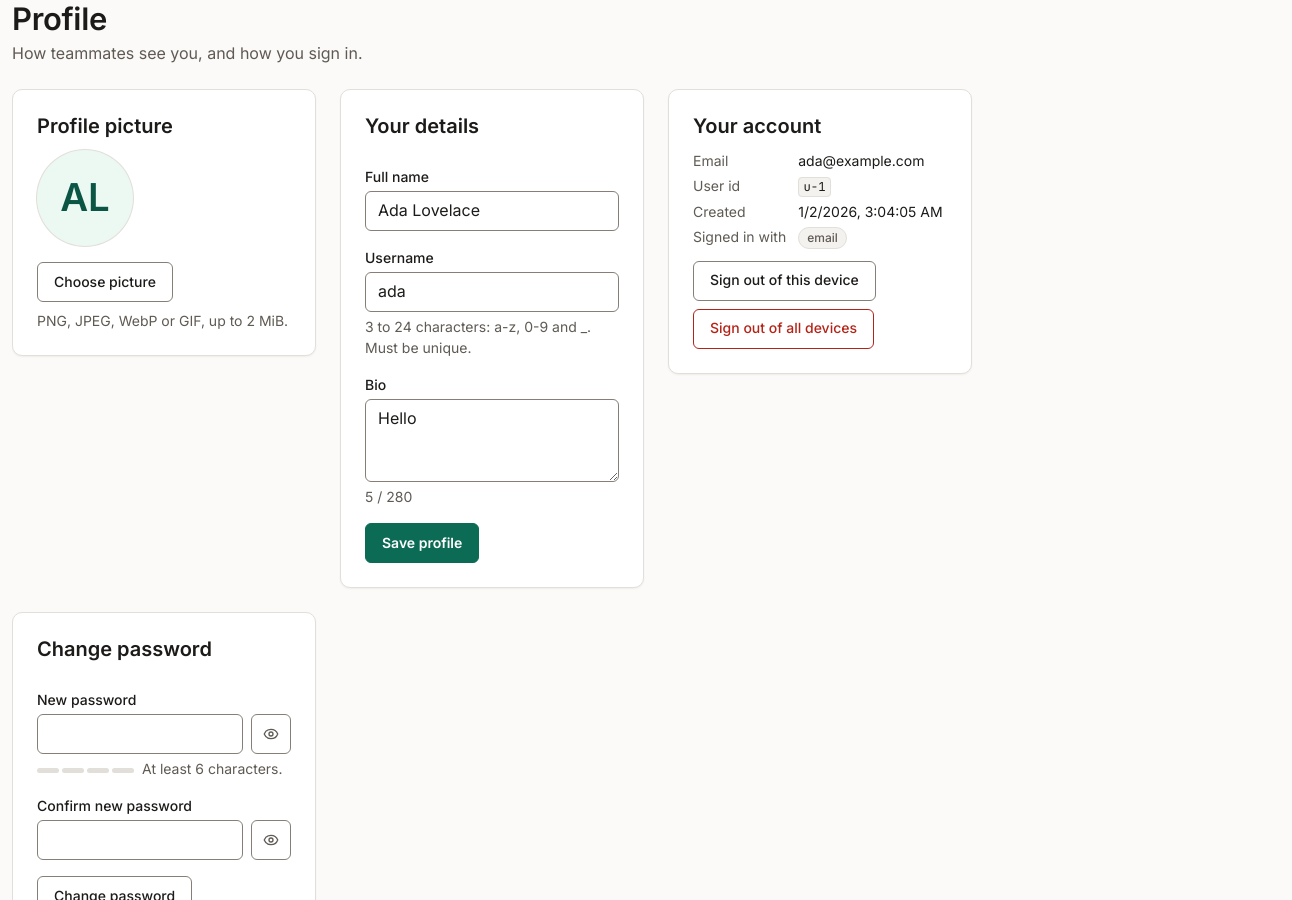
it: ProfilePage › changes the password when both fields match
The image size is (1292, 900).
Type "another-pass" into the password field labelled "New password" at x=140, y=734, box [37, 714, 243, 754]
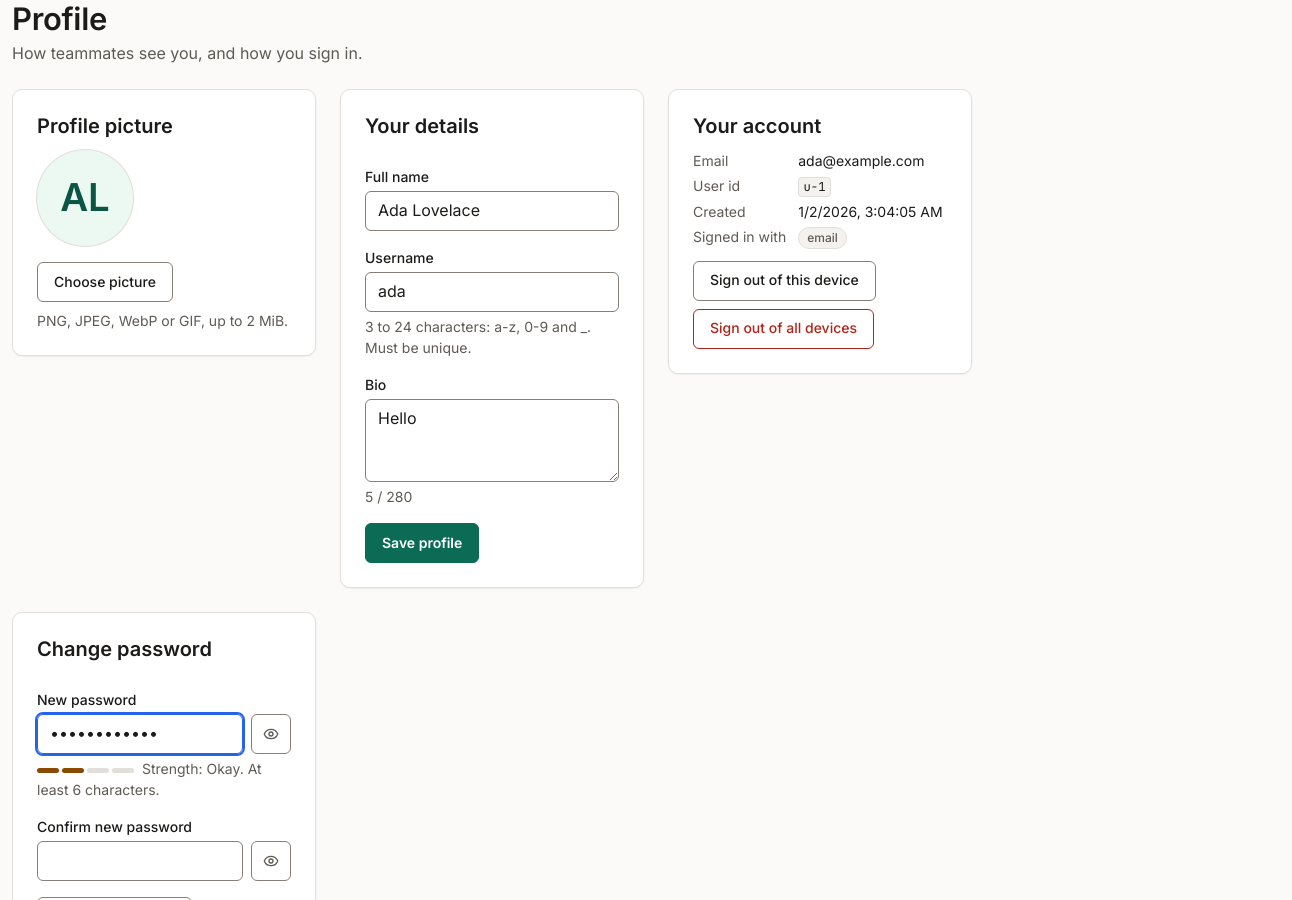
Type "another-pass" into the password field labelled "Confirm new password" at x=140, y=861, box [37, 841, 243, 881]
(page scrolled)
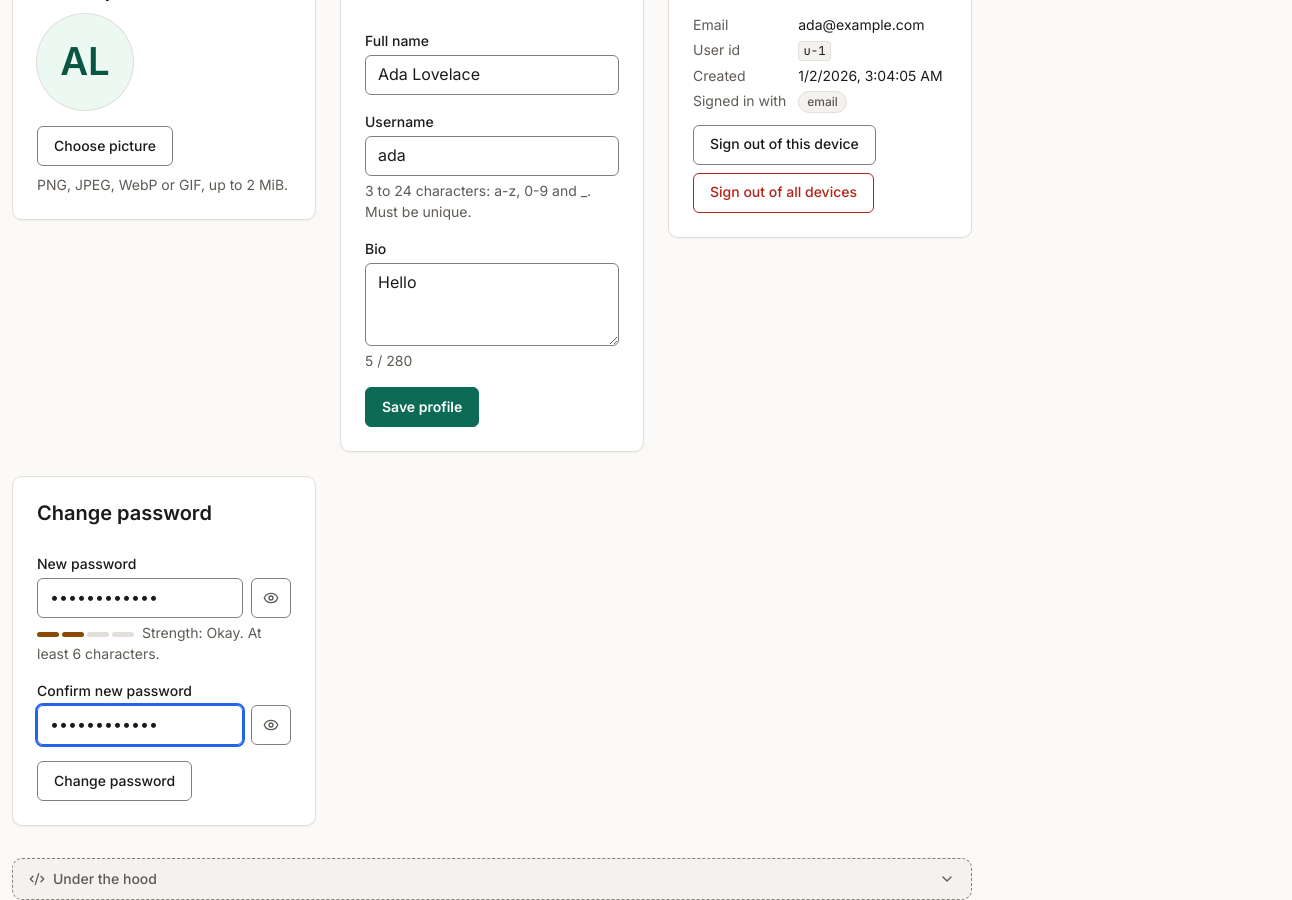
Click the button "Change password" at x=115, y=781, box [37, 761, 192, 801]
(page scrolled)
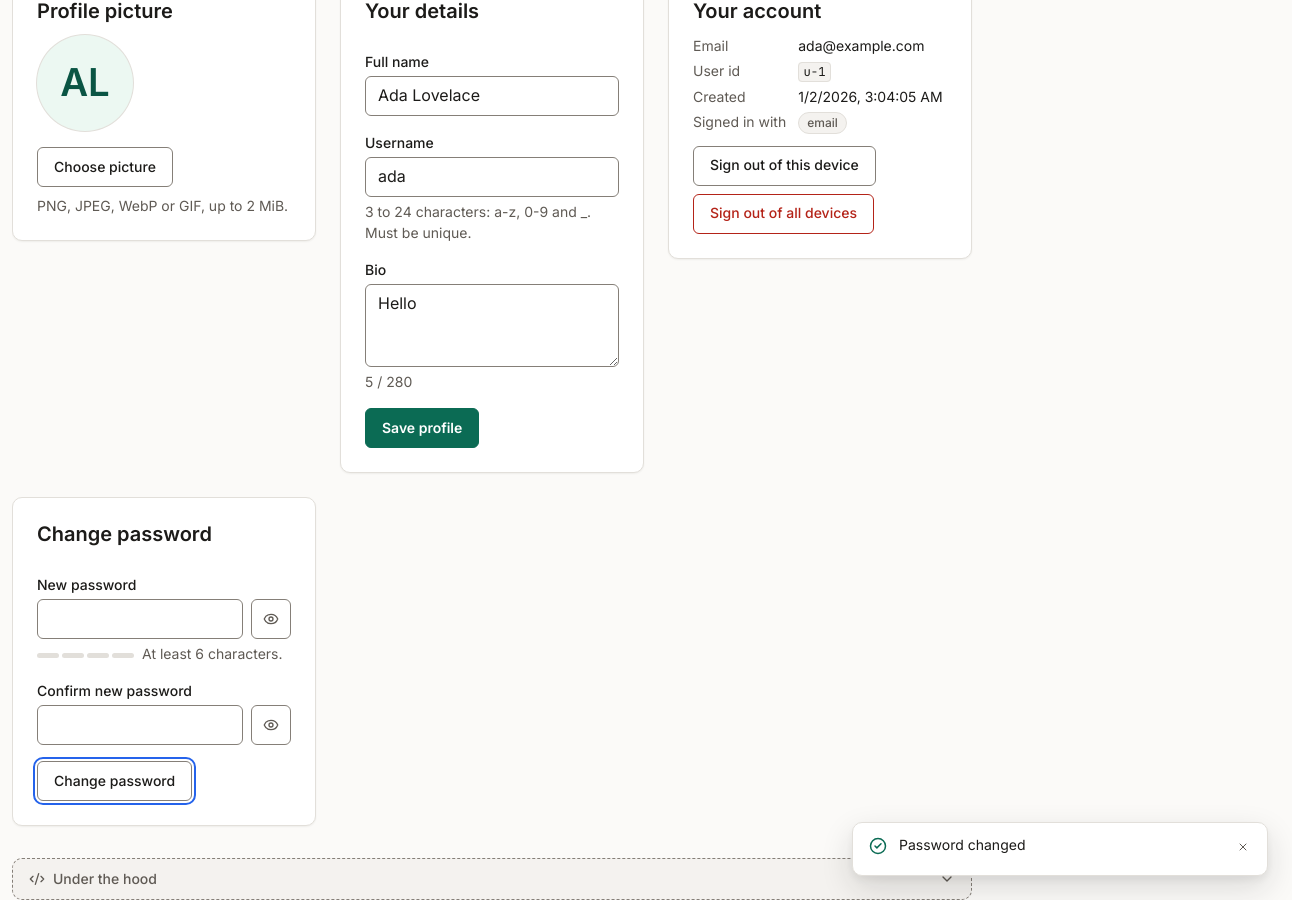
expect the password field labelled "New password" is empty: met, box [37, 599, 243, 639]
